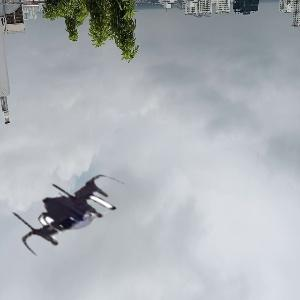drone: (11, 154, 128, 271)
